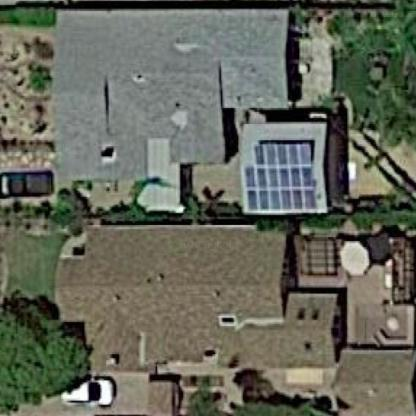car: (53, 370, 119, 408), (2, 164, 57, 206)
solar_panel: (238, 131, 324, 223)
